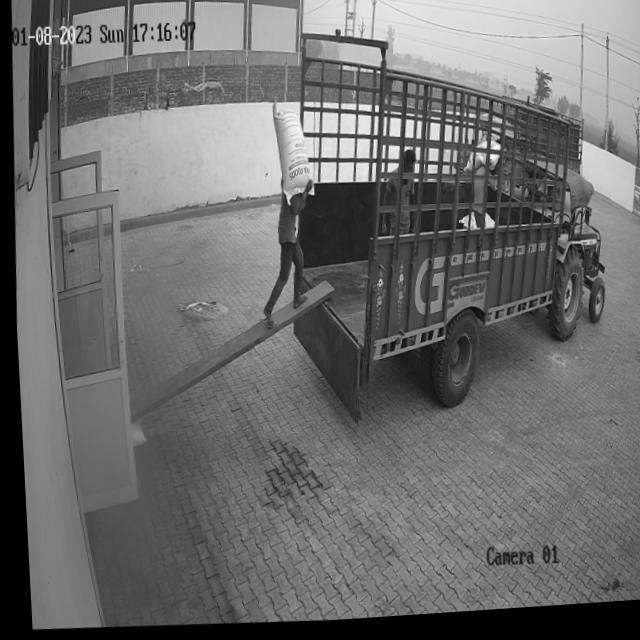sack: (266, 102, 316, 213)
